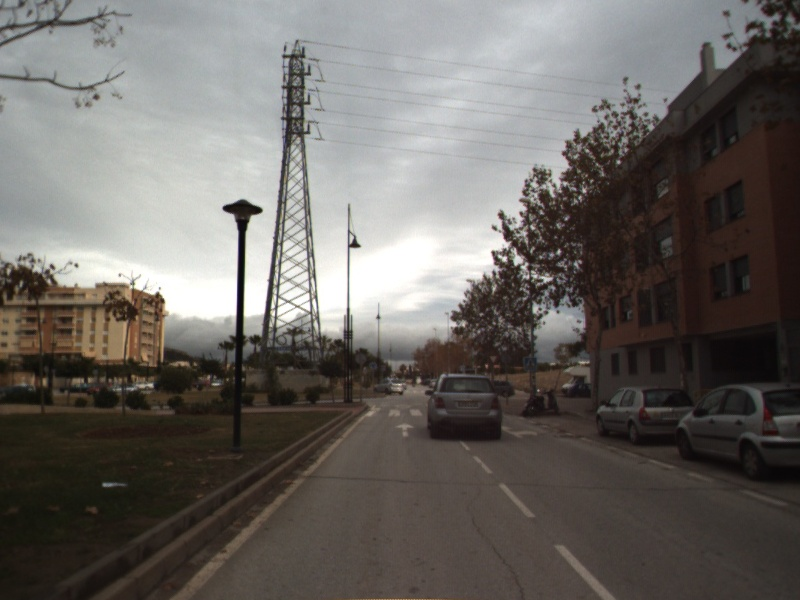STRAIGHT: (393, 421, 416, 439)
STRAIGHT_RIGHT: (500, 425, 539, 440)
